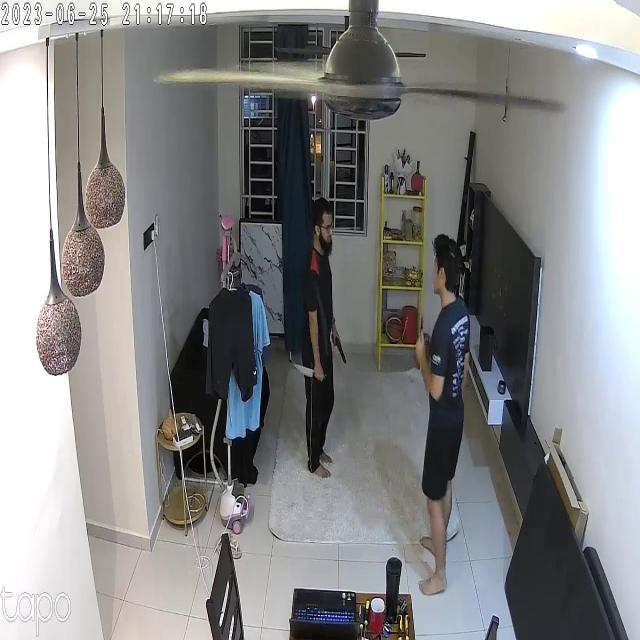Gun: (327, 325, 360, 367)
Knife: (288, 346, 334, 387)
